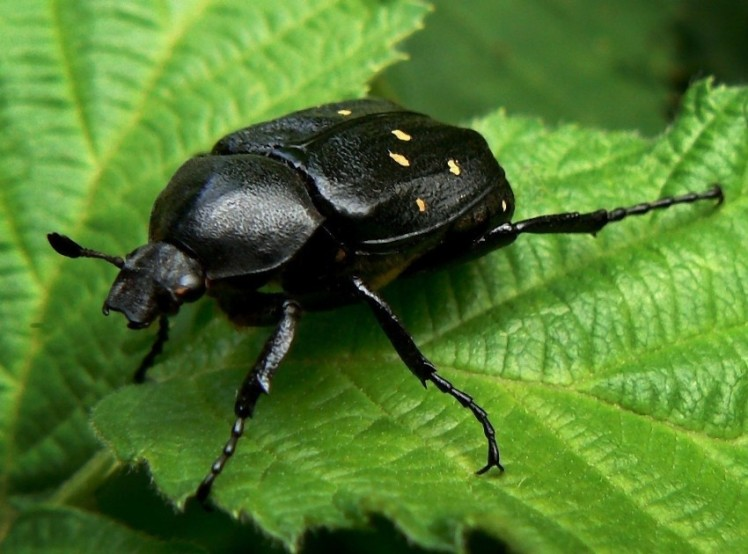Gnorimus_variabilis: (40, 87, 725, 518)
